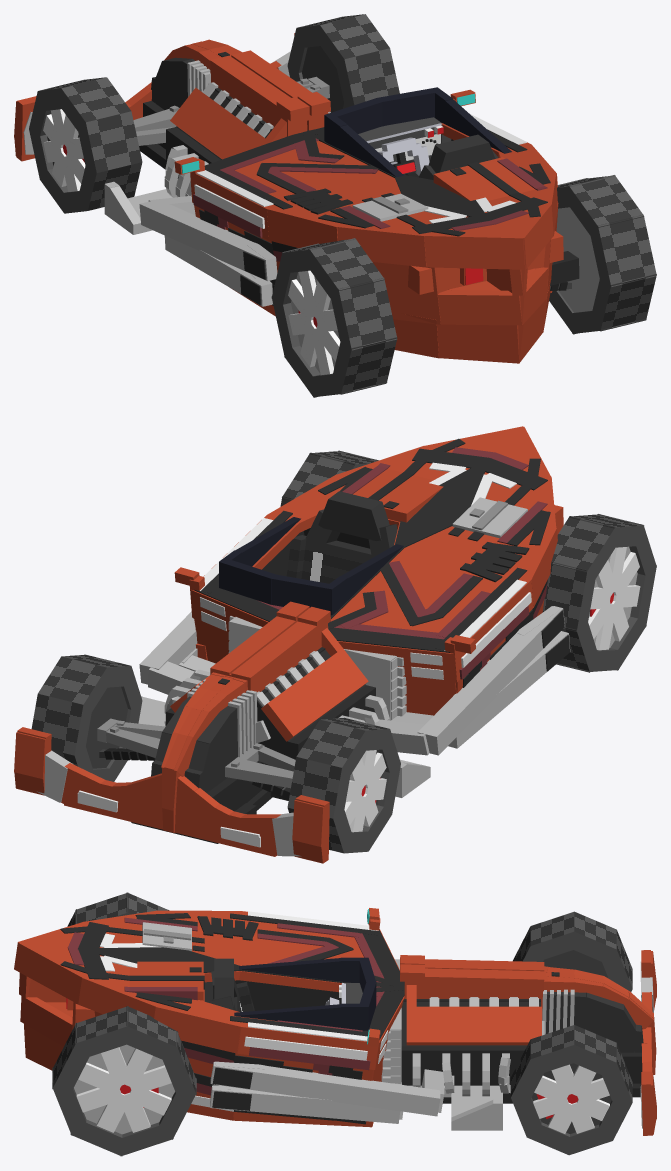
Rendered from free_hot_wheels_acceleracers_-_rat-ified.glb.
3 views of the same model, one above another, from view 1: azimuth 30°, elevation 25°; view 2: azimuth 150°, elevation 25°; view 3: azimuth 270°, elevation 25° (orthographic). The views are drawn at different scales.
Parts seen in each view (by area): view 1: backwheels_main_651, front_left_711, front_right_681, part1_230, part1_149, part2_357, part2_417, part1_114, part1_184, part1_154, part1_148, part1_150 (+35 smaller); view 2: backwheels_main_651, front_right_681, front_left_711, part1_230, part1_0, part2_417, part2_357, part1_114, part1_336, part2_376, seat_555, seat_559 (+46 smaller); view 3: backwheels_main_651, front_right_681, front_left_711, part2_358, part2_444, part1_112, part2_364, part1_230, part1_145, part2_445, part1_156, part1_218 (+73 smaller).
Boxes of the visible parts, <box> form: backwheels_main_651: <box>271,175,656,397</box>; front_left_711: <box>29,77,142,213</box>; front_right_681: <box>287,14,399,112</box>; part1_230: <box>235,141,400,226</box>; part1_149: <box>424,232,525,269</box>; part2_357: <box>170,87,270,159</box>; part2_417: <box>139,199,254,268</box>; part1_114: <box>210,55,307,136</box>; part1_184: <box>437,324,519,363</box>; part1_154: <box>438,290,522,325</box>; part1_148: <box>336,223,428,267</box>; part1_150: <box>372,262,440,324</box>; backwheels_main_651: <box>280,450,656,672</box>; front_right_681: <box>31,654,142,781</box>; front_left_711: <box>287,717,400,853</box>; part1_230: <box>331,526,533,632</box>; part1_0: <box>64,775,276,856</box>; part2_417: <box>417,633,536,755</box>; part2_357: <box>261,648,368,741</box>; part1_114: <box>231,618,328,692</box>; part1_336: <box>353,469,443,522</box>; part2_376: <box>229,617,398,720</box>; seat_555: <box>301,539,371,583</box>; seat_559: <box>328,491,381,539</box>; backwheels_main_651: <box>52,892,196,1156</box>; front_right_681: <box>510,1025,632,1155</box>; front_left_711: <box>513,911,632,991</box>; part2_358: <box>406,1006,541,1045</box>; part2_444: <box>260,1065,440,1116</box>; part1_112: <box>404,968,544,1019</box>; part2_364: <box>401,1046,526,1103</box>; part1_230: <box>173,918,363,965</box>; part1_145: <box>154,1004,243,1053</box>; part2_445: <box>260,1091,400,1123</box>; part1_156: <box>14,941,87,1003</box>; part1_218: <box>213,980,341,1010</box>.
Size of the model in its own units: 2.02 by 1.02 by 4.04.
Materials: 1 (1 with a texture image).
